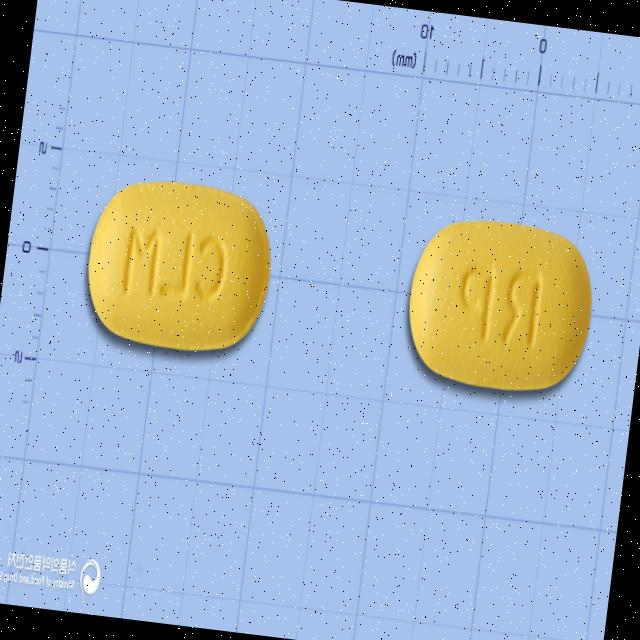Rpclari Tab: (77, 170, 280, 360), (399, 209, 600, 397)
